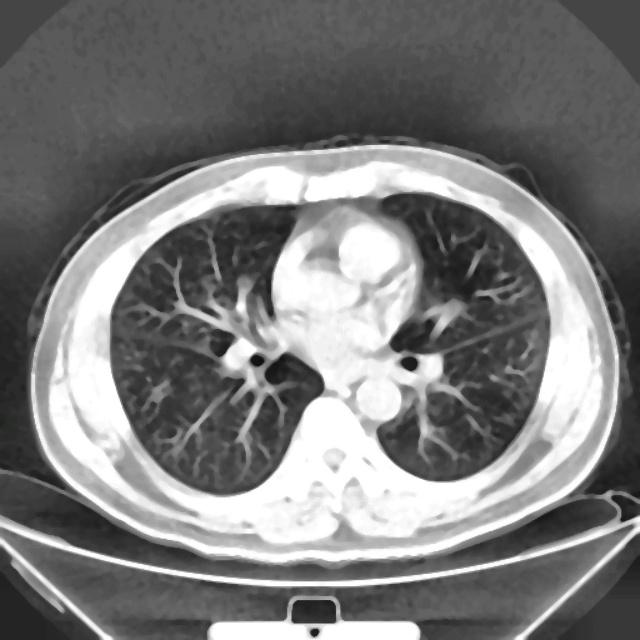covid: (26, 134, 630, 566)
